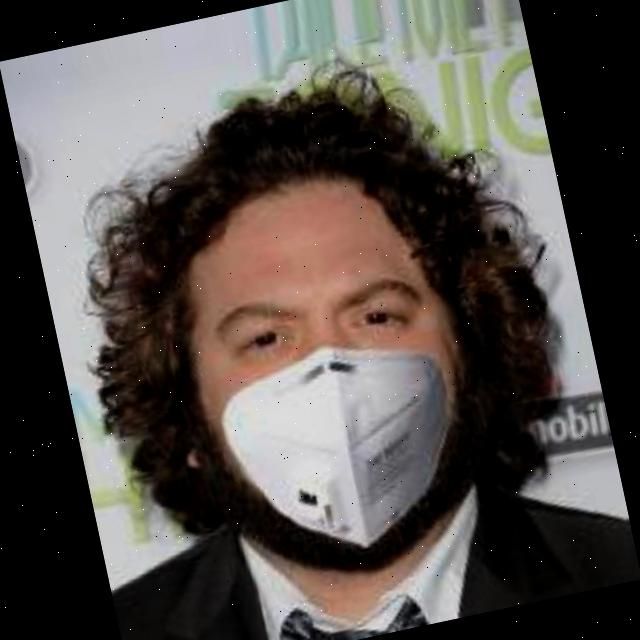suspicion: (30, 132, 513, 563)
